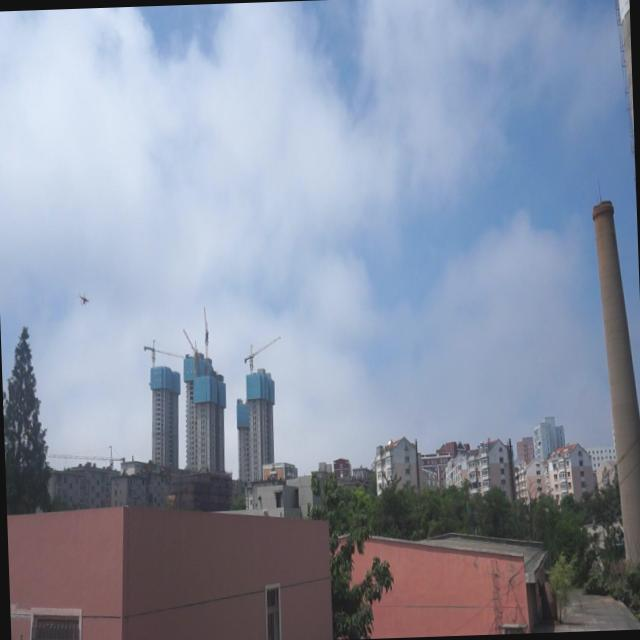drone: (77, 290, 91, 307)
